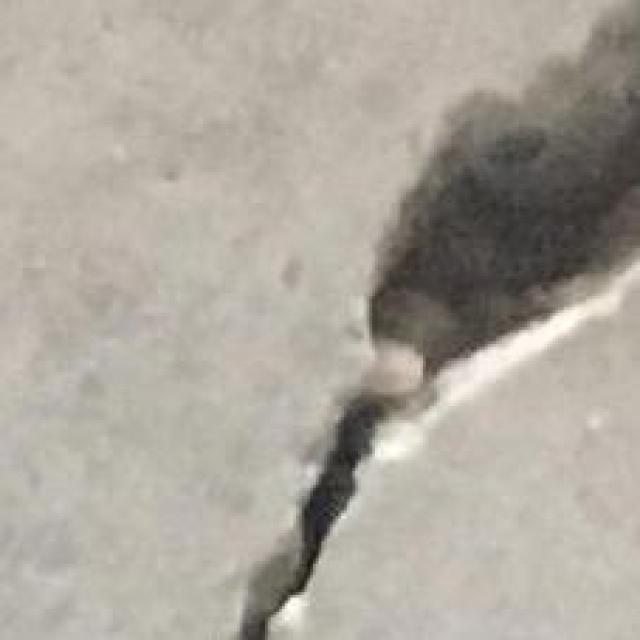branched cracks: (275, 0, 639, 609), (240, 611, 270, 639)
